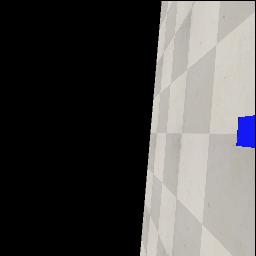box: (236, 115, 256, 148)
